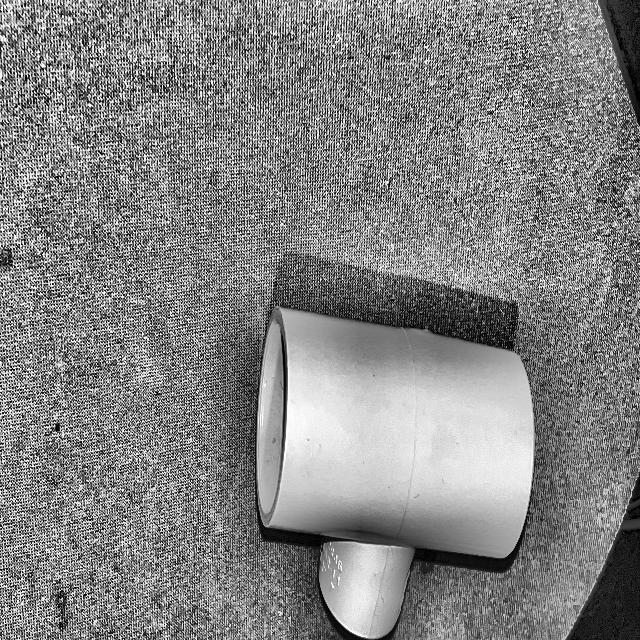EQUALTEE: (255, 307, 536, 640)
